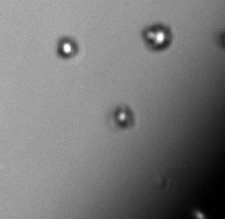Living Cell: (143, 22, 171, 50), (57, 37, 79, 57), (113, 105, 131, 126)
